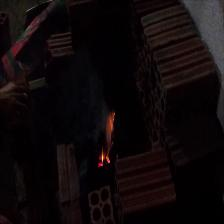fire: (98, 111, 116, 167)
